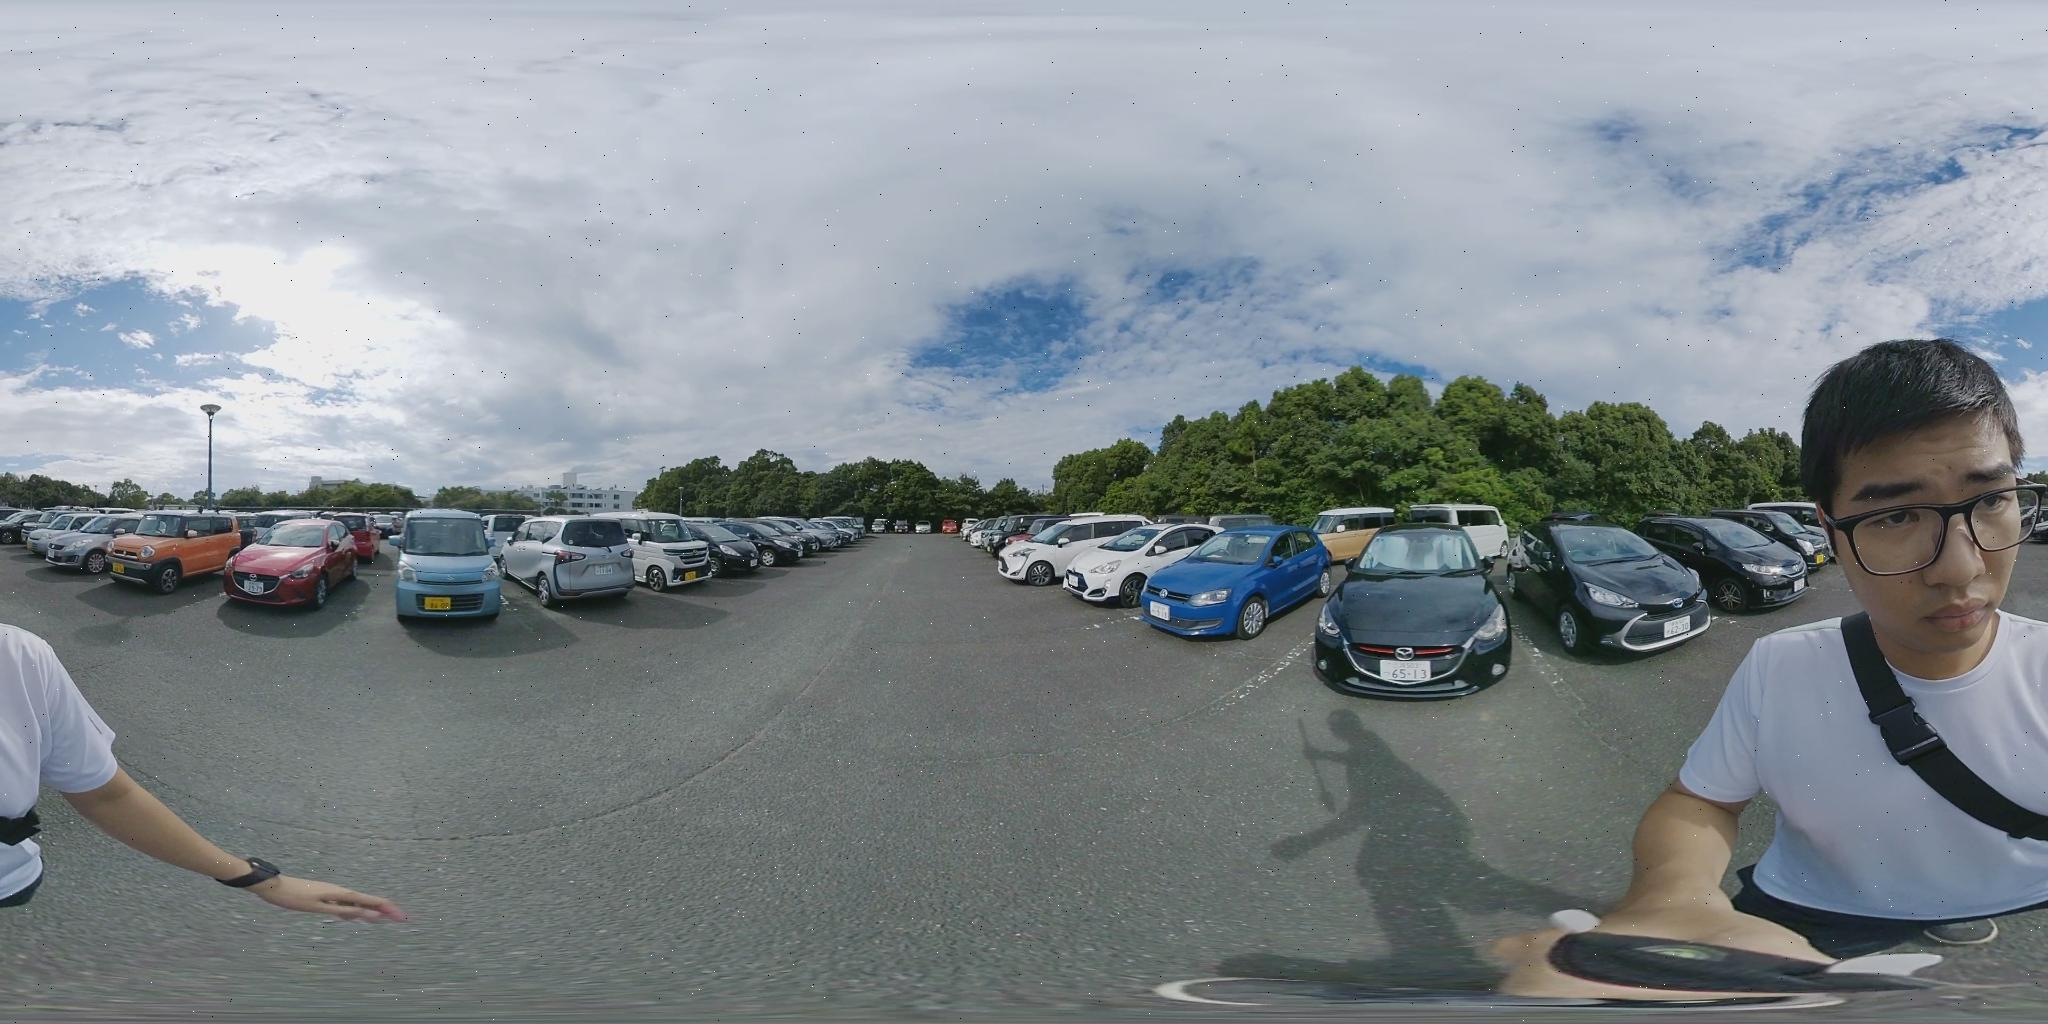car: (1313, 520, 1518, 700), (1516, 522, 1721, 660), (1135, 525, 1328, 640), (495, 516, 709, 602), (1643, 515, 1827, 610), (1059, 524, 1225, 602), (393, 511, 500, 626), (231, 521, 358, 607), (1002, 519, 1162, 584), (112, 511, 243, 581), (20, 509, 145, 568), (1729, 502, 1832, 564)
